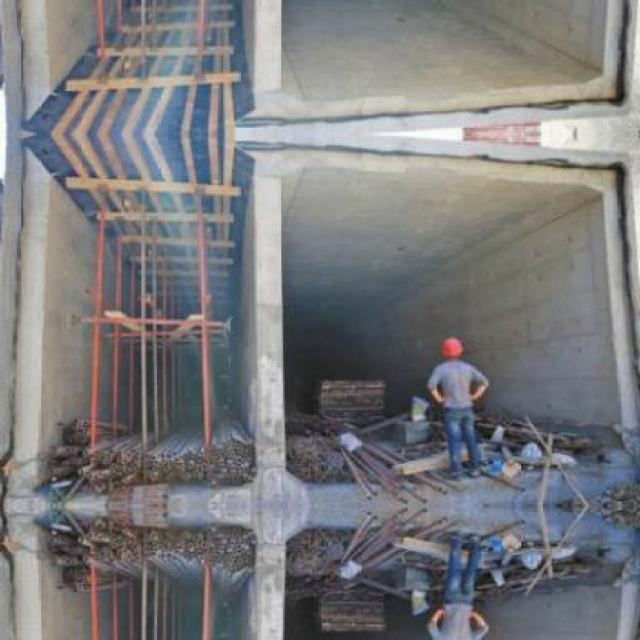helmet: (441, 336, 461, 360)
